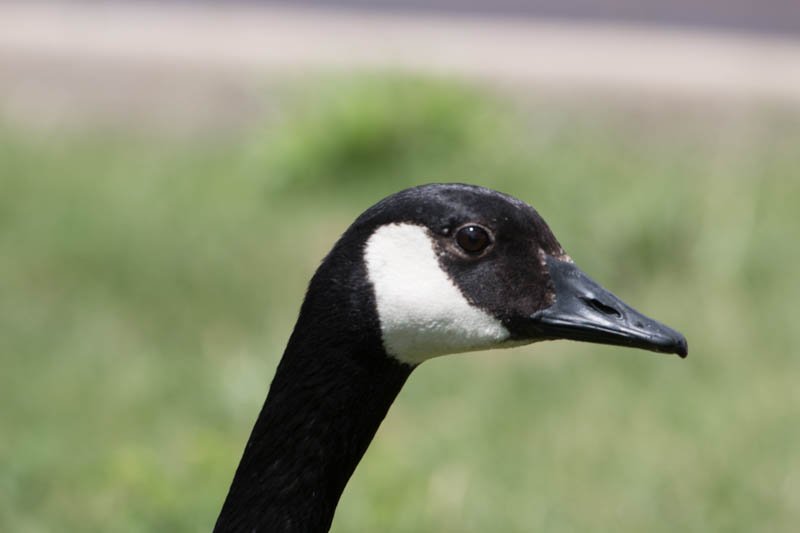goose-head: (296, 183, 688, 366)
